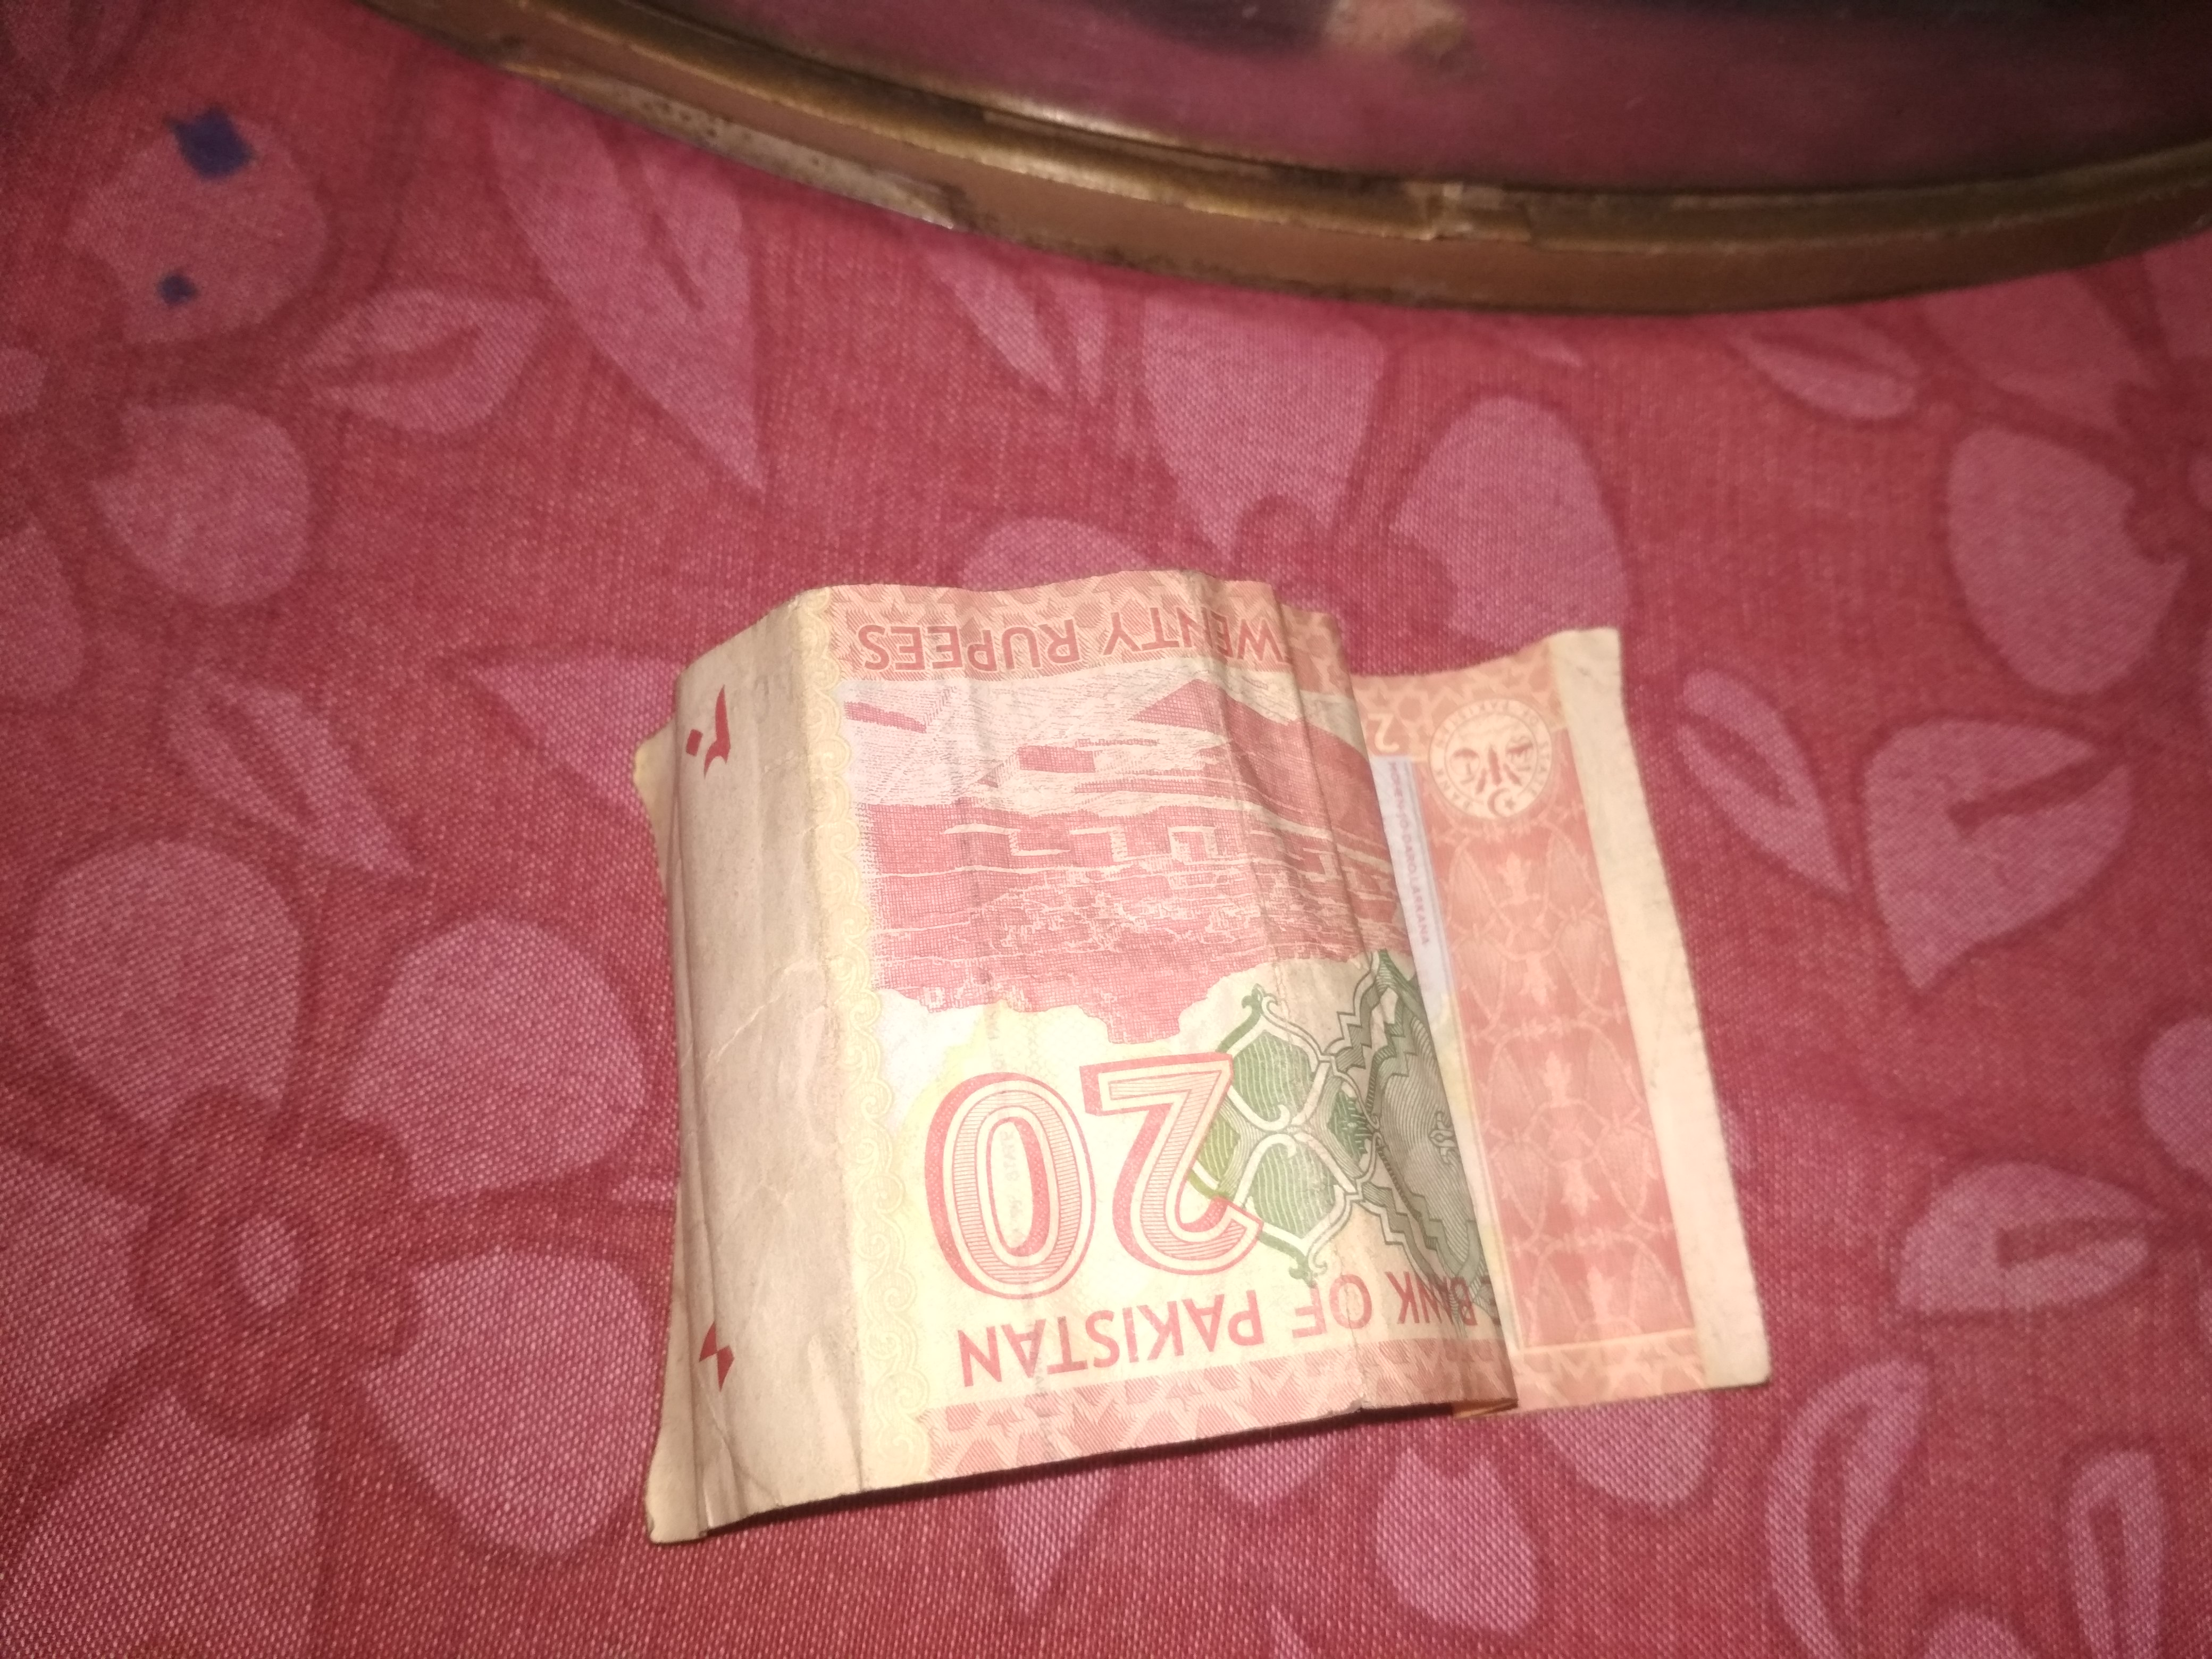20 rupee: (577, 516, 1773, 1556)
